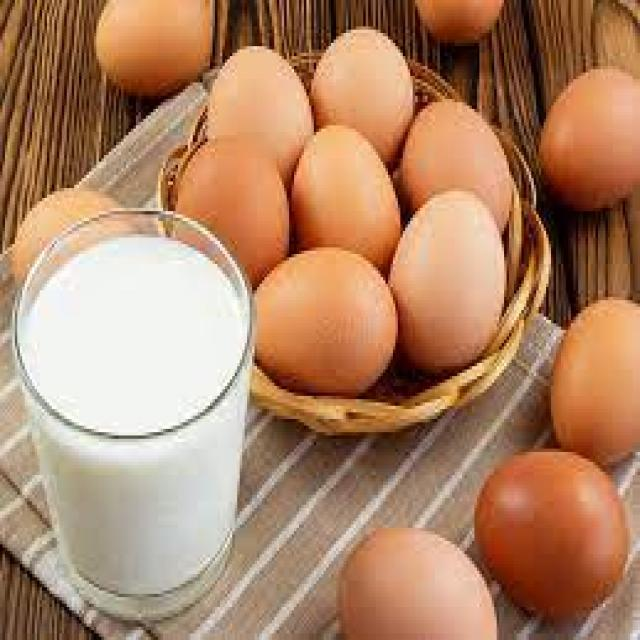Egg: (472, 448, 633, 621), (388, 187, 512, 373), (247, 246, 400, 396), (340, 520, 502, 640), (172, 135, 294, 294), (286, 117, 405, 274), (544, 288, 640, 473), (202, 42, 318, 192), (304, 23, 418, 173), (402, 97, 516, 240), (538, 63, 640, 219), (92, 0, 218, 98)
Milk carton/jug: (15, 232, 253, 600)
